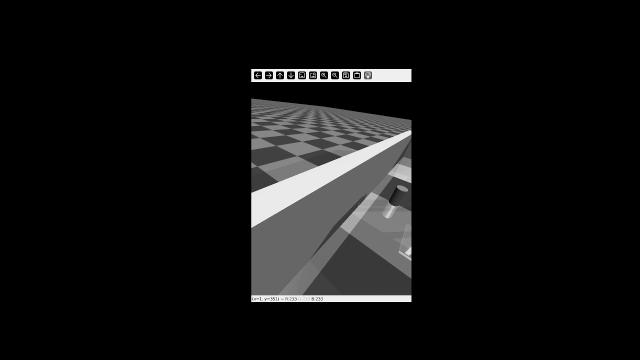cilindro: (389, 182, 408, 209)
